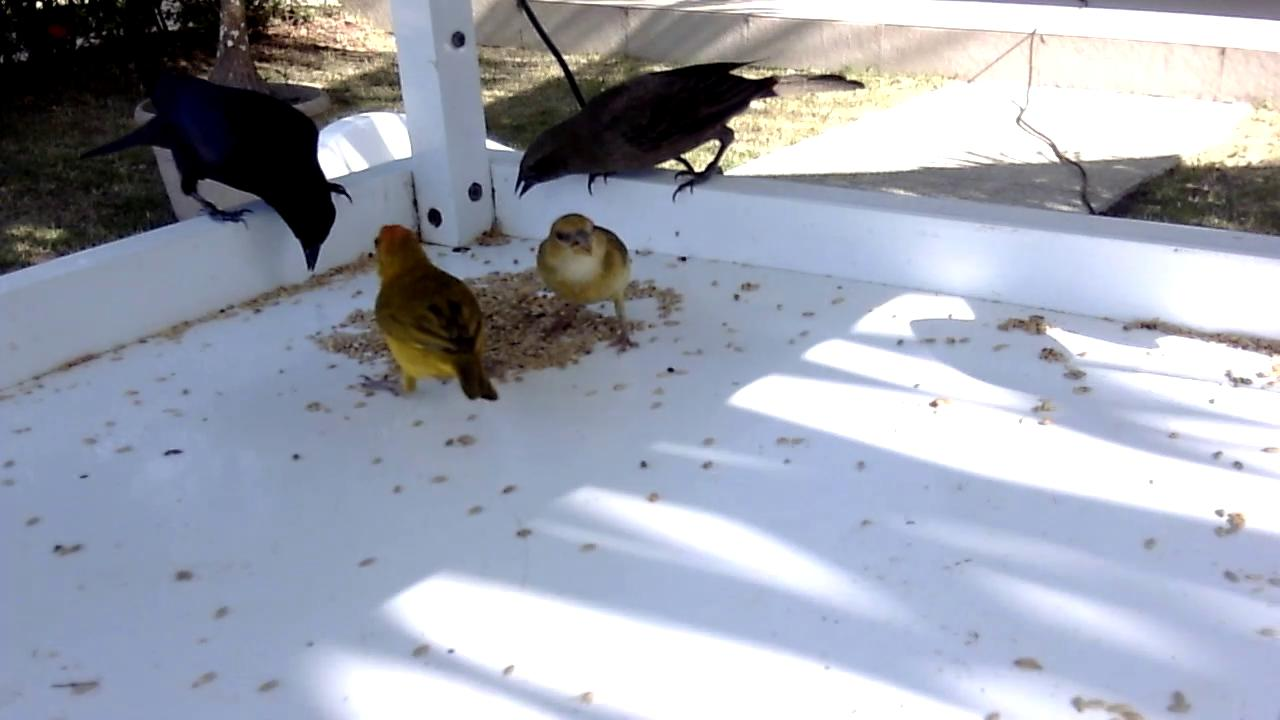canario_do_amazonas: (353, 223, 503, 406), (536, 211, 642, 354)
chupim: (77, 55, 355, 275), (513, 56, 868, 203)
